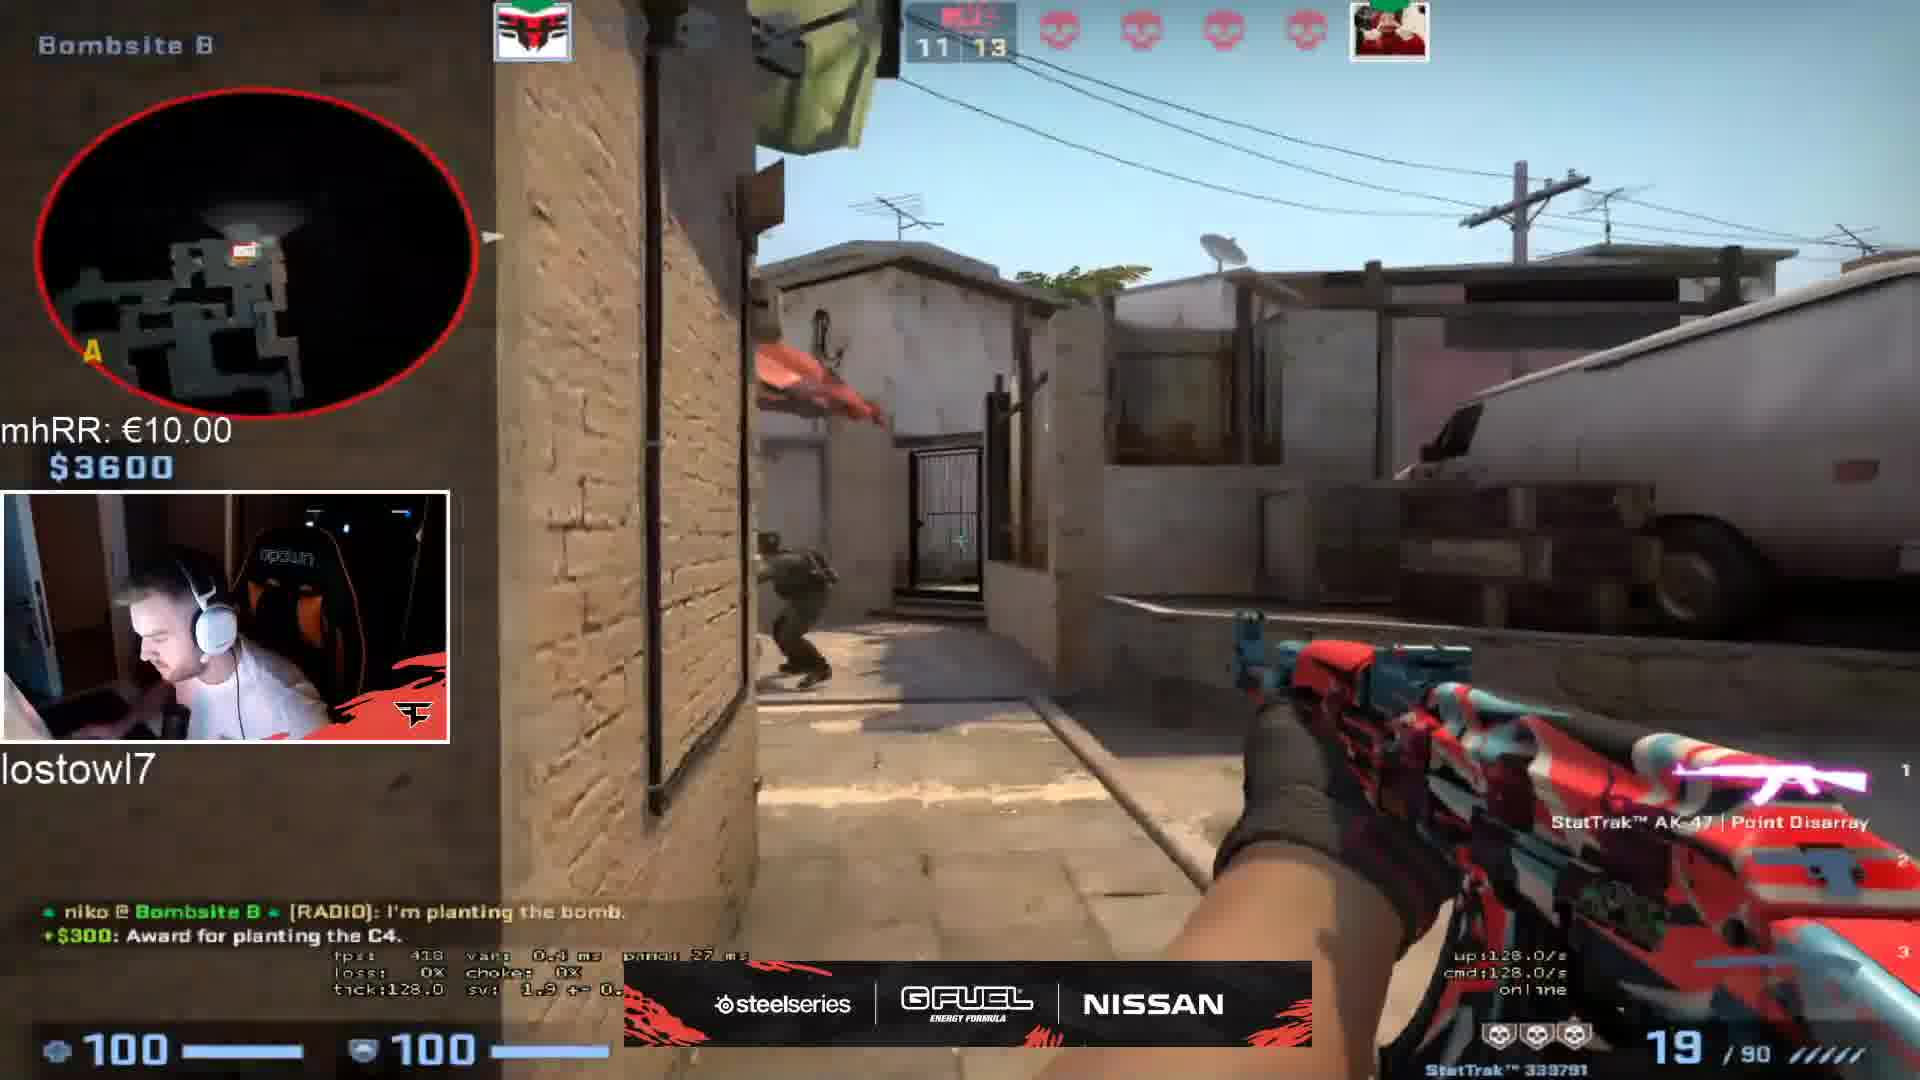enemy: (754, 510, 855, 702)
